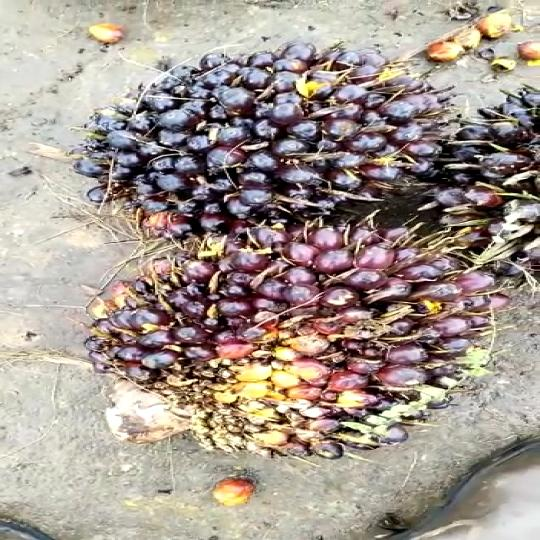mentah: (96, 223, 534, 455), (59, 39, 432, 244)
